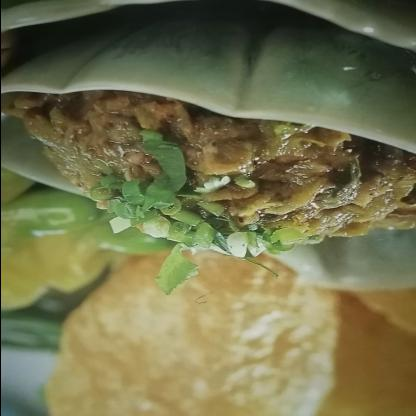Namprig: (1, 76, 411, 281)
